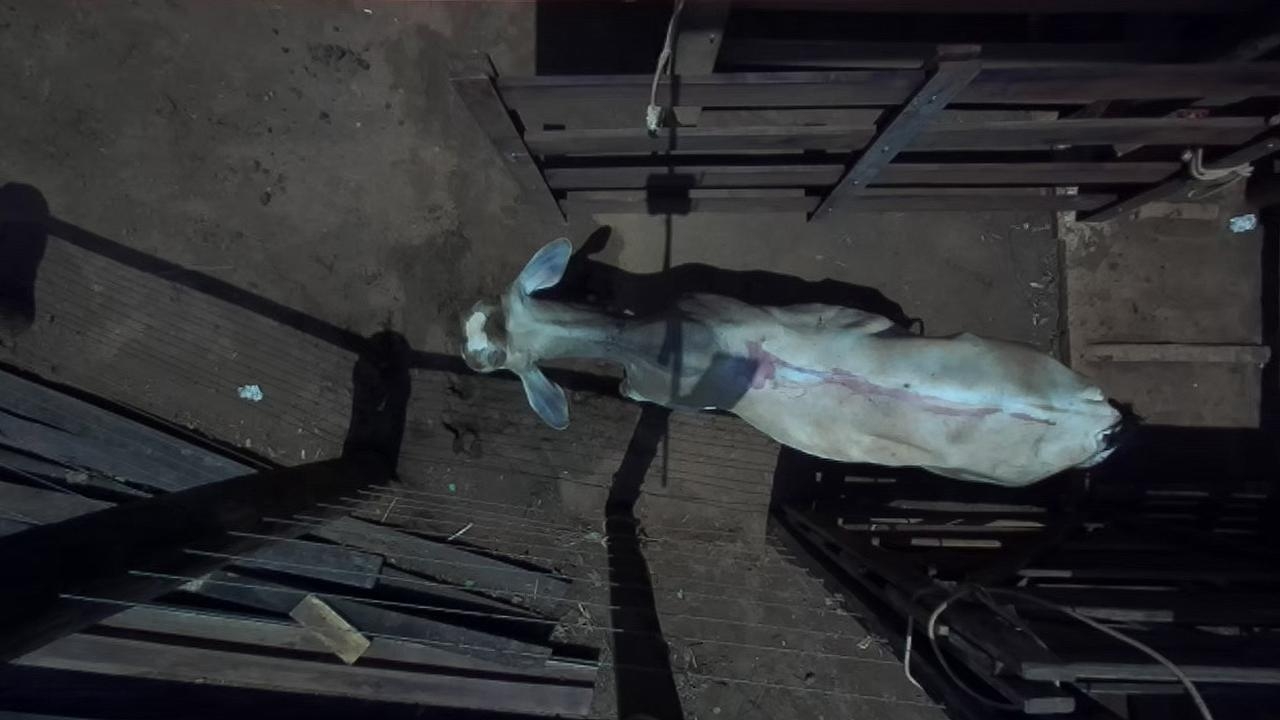cattle: (458, 226, 1134, 489)
